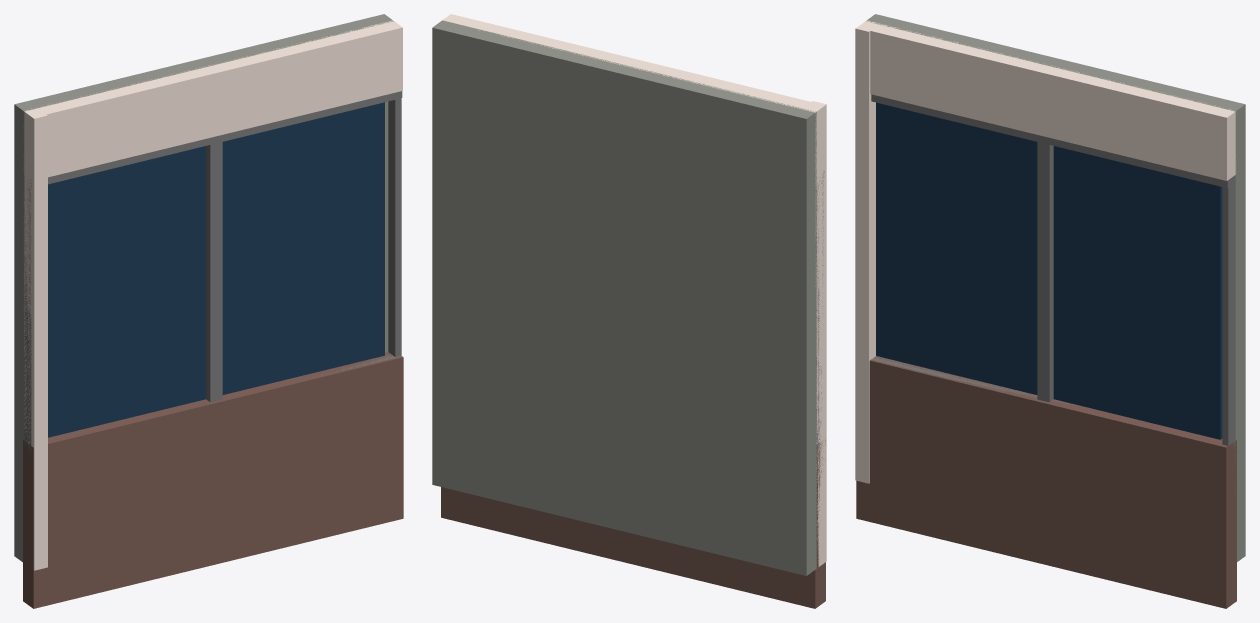
The picture shows the model from 3 angles, left to right: view 1: azimuth 30°, elevation 25°; view 2: azimuth 150°, elevation 25°; view 3: azimuth 330°, elevation 25°; orthographic projection.
Parts seen in each view (by area): view 1: a2002_base-w1; view 2: a2002_base-w1; view 3: a2002_base-w1.
Boxes of the visible parts, x1,y1,x2,y2 form: a2002_base-w1: [14, 14, 403, 608]; a2002_base-w1: [432, 14, 826, 608]; a2002_base-w1: [855, 14, 1245, 608].
Size of the model in its own units: 3 by 3.8 by 0.28.
